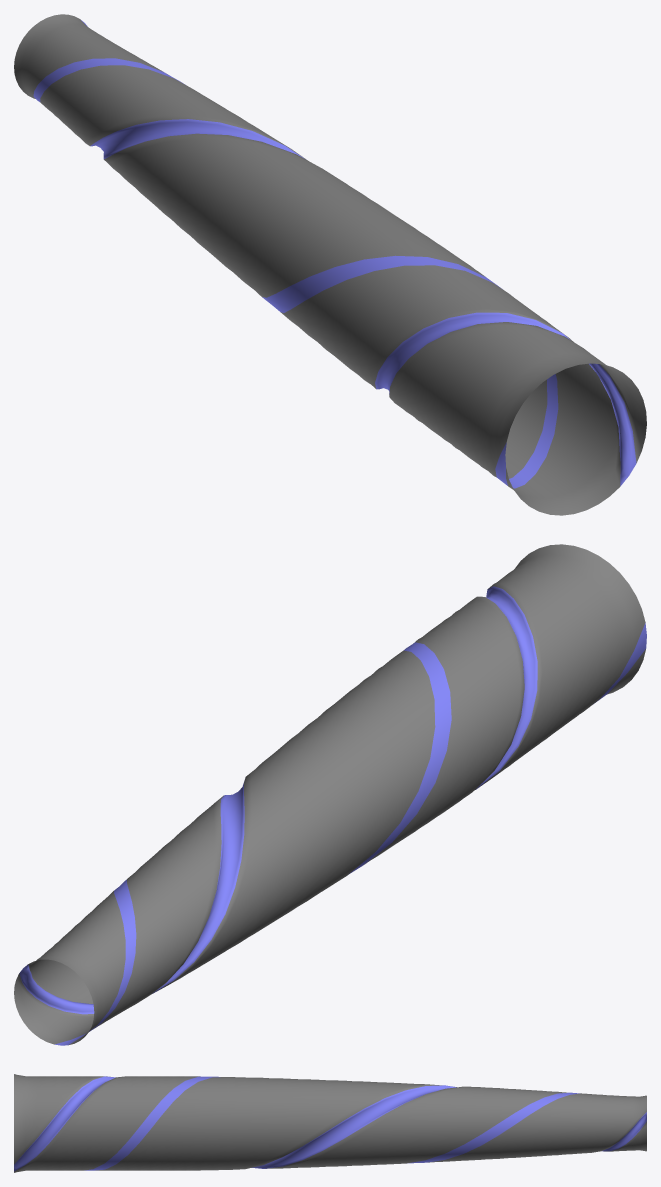
The model's file is TunnelLegGame2.fbx.
The picture shows the model from 3 angles, top to bottom: view 1: azimuth 30°, elevation 25°; view 2: azimuth 150°, elevation 25°; view 3: azimuth 270°, elevation 25°; orthographic projection. The views are drawn at different scales.
Parts seen in each view (by area): view 1: Tunel; view 2: Tunel; view 3: Tunel.
Boxes of the visible parts, <box> form: Tunel: <box>14,14,646,515</box>; Tunel: <box>14,544,646,1045</box>; Tunel: <box>14,1074,646,1172</box>.
Size of the model in its own units: 2.94 by 18.75 by 2.94.
